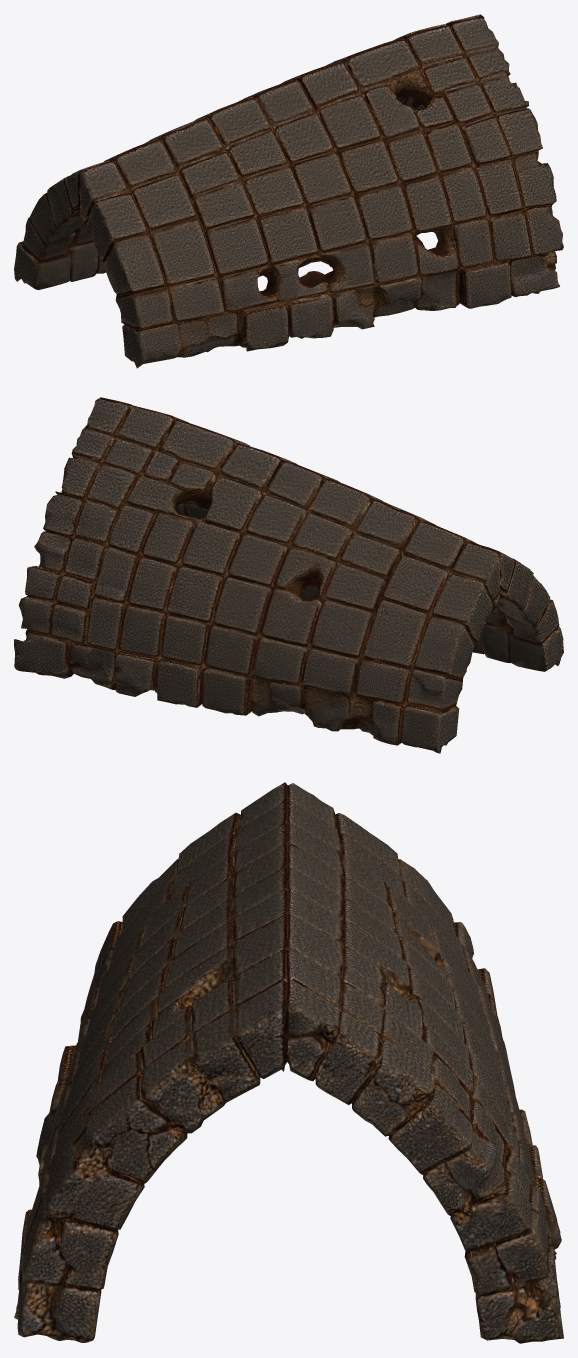
File: vault.glb
3 renders of one model, top to bottom at view 1: azimuth 30°, elevation 25°; view 2: azimuth 150°, elevation 25°; view 3: azimuth 270°, elevation 25°, orthographic. The views are drawn at different scales.
Parts seen in each view (by area): view 1: tripo_node_bacfbb5f-0e90-4e33-9ac5-c3f2e7170875; view 2: tripo_node_bacfbb5f-0e90-4e33-9ac5-c3f2e7170875; view 3: tripo_node_bacfbb5f-0e90-4e33-9ac5-c3f2e7170875.
Boxes of the visible parts, <box> form: tripo_node_bacfbb5f-0e90-4e33-9ac5-c3f2e7170875: <box>14,14,563,368</box>; tripo_node_bacfbb5f-0e90-4e33-9ac5-c3f2e7170875: <box>14,397,563,753</box>; tripo_node_bacfbb5f-0e90-4e33-9ac5-c3f2e7170875: <box>14,782,563,1343</box>.
Size of the model in its own units: 1 by 0.5001 by 0.7259.
Materials: 1 (1 with a texture image).
